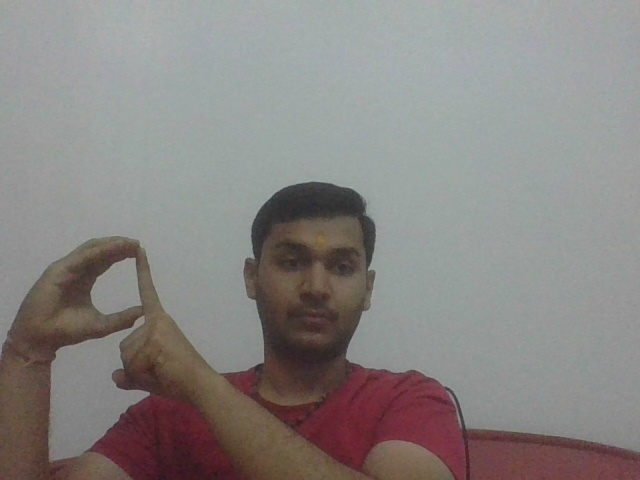D: (15, 234, 189, 393)
